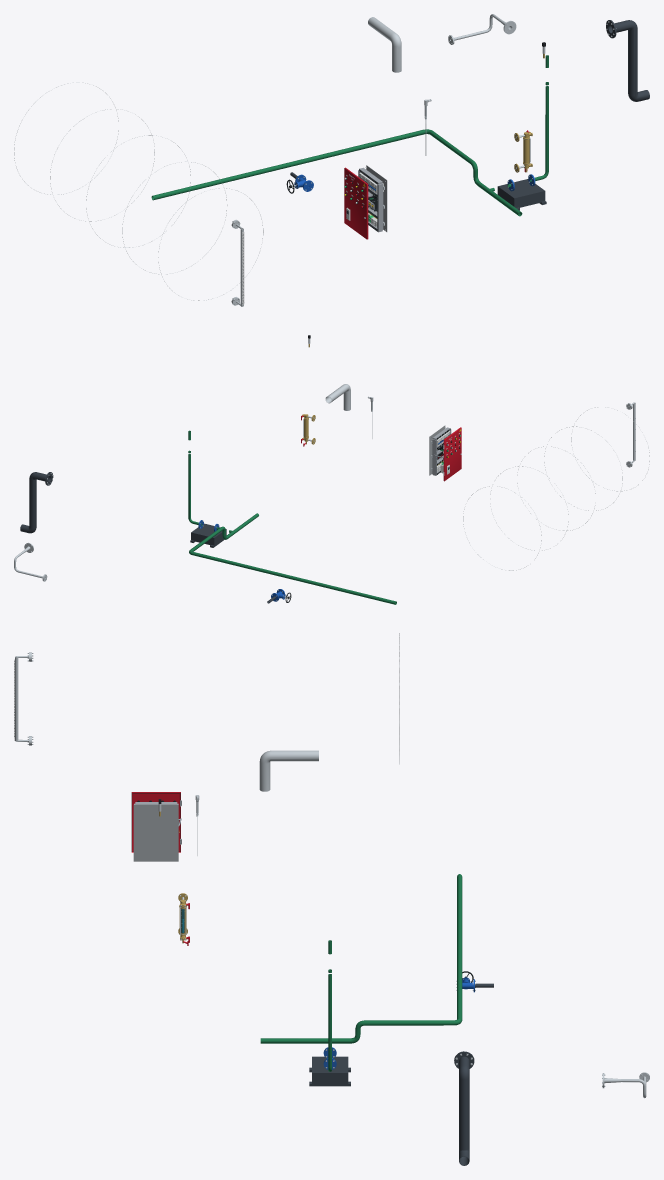
The picture shows the model from 3 angles, top to bottom: view 1: azimuth 30°, elevation 25°; view 2: azimuth 150°, elevation 25°; view 3: azimuth 270°, elevation 25°; orthographic projection. The views are drawn at different scales.
Parts seen in each view (by area): view 1: suction_common / green, cabinet_door / cabinet_door_5.npz, cabinet_interior / cabinet_interior_0.npz, bdv_water_drain / dark, deaerator_details / steel, pump_branch_2 / dark, steam_rise / steel, pump_branch_2 / green, fv_to_trap_gap / steel, sight_glasses_2 / sight_glasses_2_0.npz; view 2: suction_common / green, cabinet_door / cabinet_door_5.npz, bdv_water_drain / dark, cabinet_interior / cabinet_interior_0.npz, deaerator_details / steel, pump_branch_2 / dark; view 3: cabinet_interior / cabinet_interior_0.npz, suction_common / green, bdv_water_drain / dark, pump_branch_2 / dark, steam_rise / steel, cabinet_door / cabinet_door_5.npz.
Boxes of the visible parts, x1=… form: suction_common / green: x1=151, y1=129, x2=522, y2=216; cabinet_door / cabinet_door_5.npz: x1=344, y1=167, x2=368, y2=239; cabinet_interior / cabinet_interior_0.npz: x1=358, y1=165, x2=387, y2=232; bdv_water_drain / dark: x1=606, y1=20, x2=649, y2=101; deaerator_details / steel: x1=14, y1=82, x2=263, y2=306; pump_branch_2 / dark: x1=497, y1=179, x2=546, y2=210; steam_rise / steel: x1=368, y1=17, x2=401, y2=72; pump_branch_2 / green: x1=490, y1=55, x2=548, y2=191; fv_to_trap_gap / steel: x1=448, y1=14, x2=516, y2=44; sight_glasses_2 / sight_glasses_2_0.npz: x1=514, y1=130, x2=532, y2=172; suction_common / green: x1=189, y1=513, x2=396, y2=604; cabinet_door / cabinet_door_5.npz: x1=443, y1=427, x2=461, y2=481; bdv_water_drain / dark: x1=20, y1=472, x2=53, y2=533; cabinet_interior / cabinet_interior_0.npz: x1=429, y1=425, x2=451, y2=475; deaerator_details / steel: x1=463, y1=402, x2=649, y2=570; pump_branch_2 / dark: x1=190, y1=523, x2=226, y2=547; cabinet_interior / cabinet_interior_0.npz: x1=133, y1=802, x2=181, y2=861; suction_common / green: x1=260, y1=874, x2=462, y2=1043; bdv_water_drain / dark: x1=454, y1=1051, x2=474, y2=1165; pump_branch_2 / dark: x1=309, y1=1056, x2=350, y2=1086; steam_rise / steel: x1=259, y1=750, x2=318, y2=791; cabinet_door / cabinet_door_5.npz: x1=131, y1=792, x2=181, y2=852.
Bounding box in the file's own units: 9.01 × 2.97 × 6.88.
